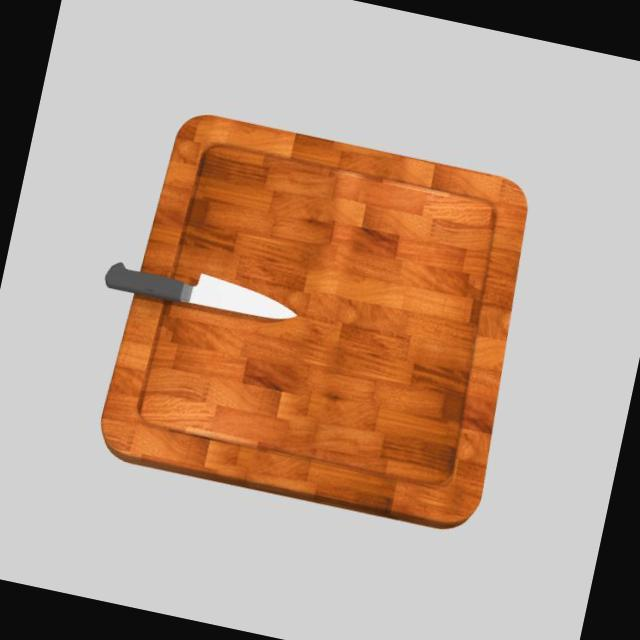knife: (103, 260, 185, 302)
